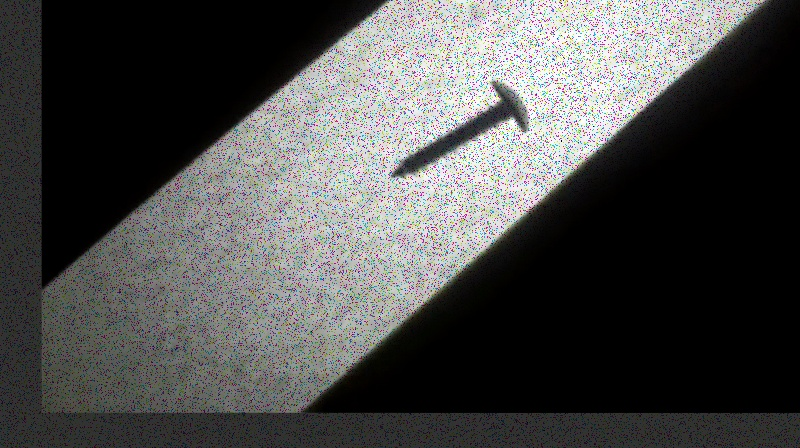S003: (385, 78, 535, 179)
